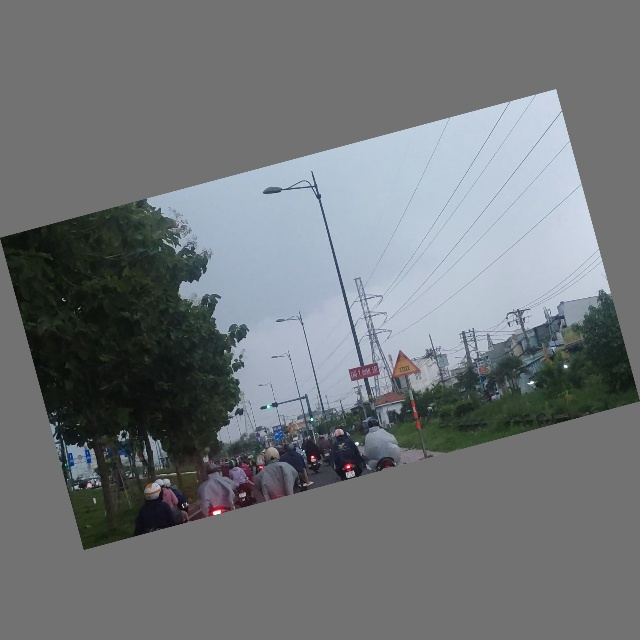W.210: (386, 347, 421, 380)
